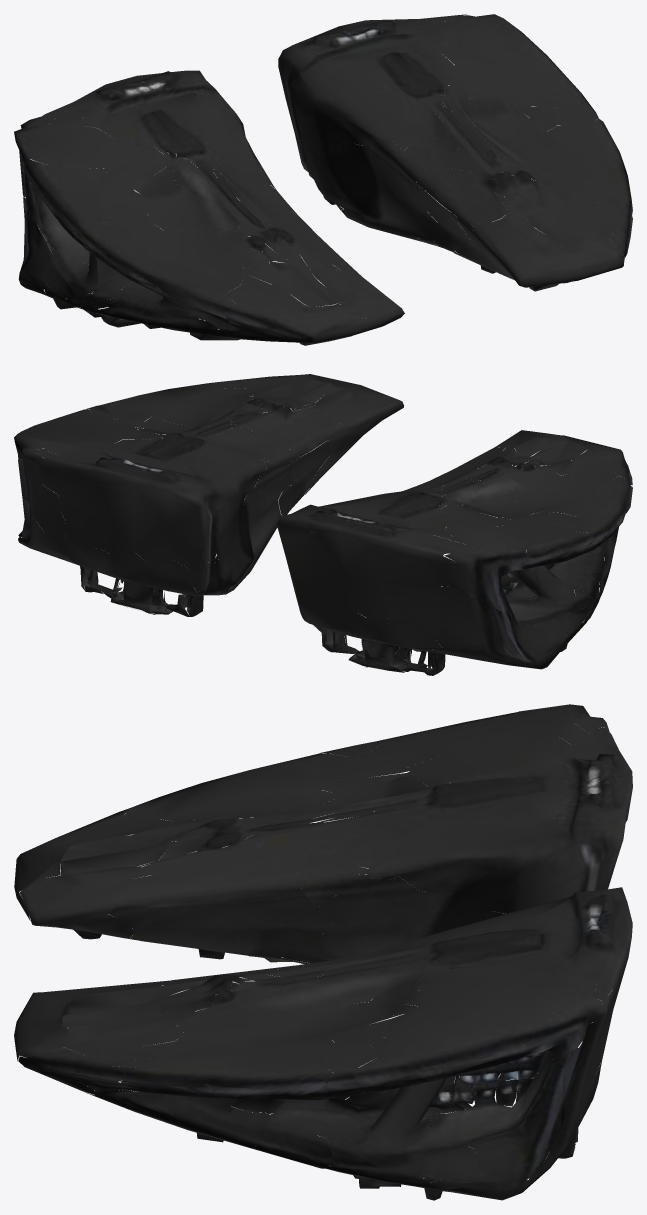
Rendered from koncept_headlight.glb.
3 renders of one model, top to bottom at view 1: azimuth 30°, elevation 25°; view 2: azimuth 150°, elevation 25°; view 3: azimuth 270°, elevation 25°, orthographic. The views are drawn at different scales.
Visible parts, largest first — view 1: tripo_node_8a9123be-eba1-4df6-9bc7-4acdadb8301f; view 2: tripo_node_8a9123be-eba1-4df6-9bc7-4acdadb8301f; view 3: tripo_node_8a9123be-eba1-4df6-9bc7-4acdadb8301f.
Boxes of the visible parts, x1,y1,x2,y2 form: tripo_node_8a9123be-eba1-4df6-9bc7-4acdadb8301f: (14, 14, 632, 345); tripo_node_8a9123be-eba1-4df6-9bc7-4acdadb8301f: (14, 374, 632, 675); tripo_node_8a9123be-eba1-4df6-9bc7-4acdadb8301f: (14, 704, 632, 1200).
Size of the model in its own units: 1 by 0.3024 by 0.7681.
1 material, 1 textured.
